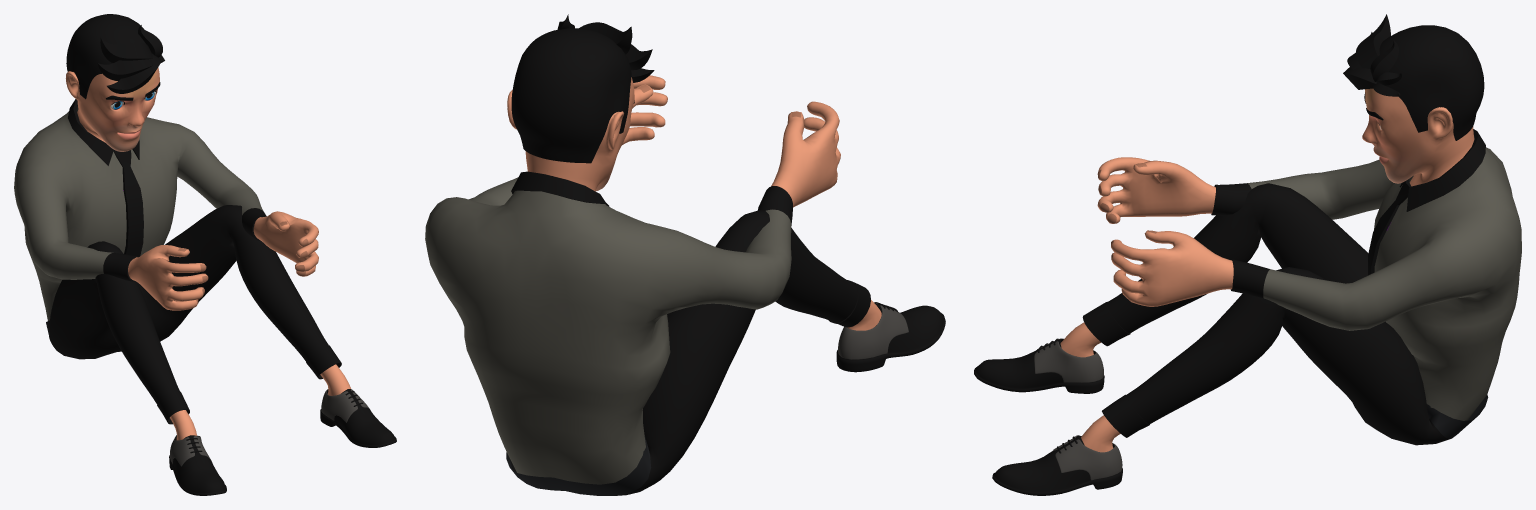
The model's file is conductor.obj.
3 views of the same model, side by side, from view 1: azimuth 30°, elevation 25°; view 2: azimuth 150°, elevation 25°; view 3: azimuth 270°, elevation 25° (orthographic). The views are drawn at different scales.
Parts seen in each view (by area): view 1: D_1_mesh.002, D_3_mesh.004, Body_Vucud.001, Hair_NurbsPath.006, Shoes_shoe_dress_v2.001, D_2_mesh.005; view 2: D_1_mesh.002, D_3_mesh.004, Hair_NurbsPath.006, Body_Vucud.001, Shoes_shoe_dress_v2.001; view 3: D_1_mesh.002, D_3_mesh.004, Body_Vucud.001, Hair_NurbsPath.006, Shoes_shoe_dress_v2.001, D_2_mesh.005.
Boxes of the visible parts, <box> form: D_1_mesh.002: <box>14,99,266,320</box>; D_3_mesh.004: <box>46,205,341,424</box>; Body_Vucud.001: <box>65,67,350,440</box>; Hair_NurbsPath.006: <box>66,14,164,99</box>; Shoes_shoe_dress_v2.001: <box>169,389,396,495</box>; D_2_mesh.005: <box>113,150,143,256</box>; D_1_mesh.002: <box>425,171,792,484</box>; D_3_mesh.004: <box>506,210,870,495</box>; Hair_NurbsPath.006: <box>511,14,654,163</box>; Body_Vucud.001: <box>507,75,881,330</box>; Shoes_shoe_dress_v2.001: <box>836,302,945,372</box>; D_1_mesh.002: <box>1211,129,1521,420</box>; D_3_mesh.004: <box>1082,183,1488,445</box>; Body_Vucud.001: <box>1060,88,1474,452</box>; Hair_NurbsPath.006: <box>1343,14,1484,140</box>; Shoes_shoe_dress_v2.001: <box>974,338,1122,495</box>; D_2_mesh.005: <box>1368,179,1411,275</box>.
Size of the model in its own units: 2.64 by 3.62 by 4.5.
Materials: 3 (3 with a texture image).
